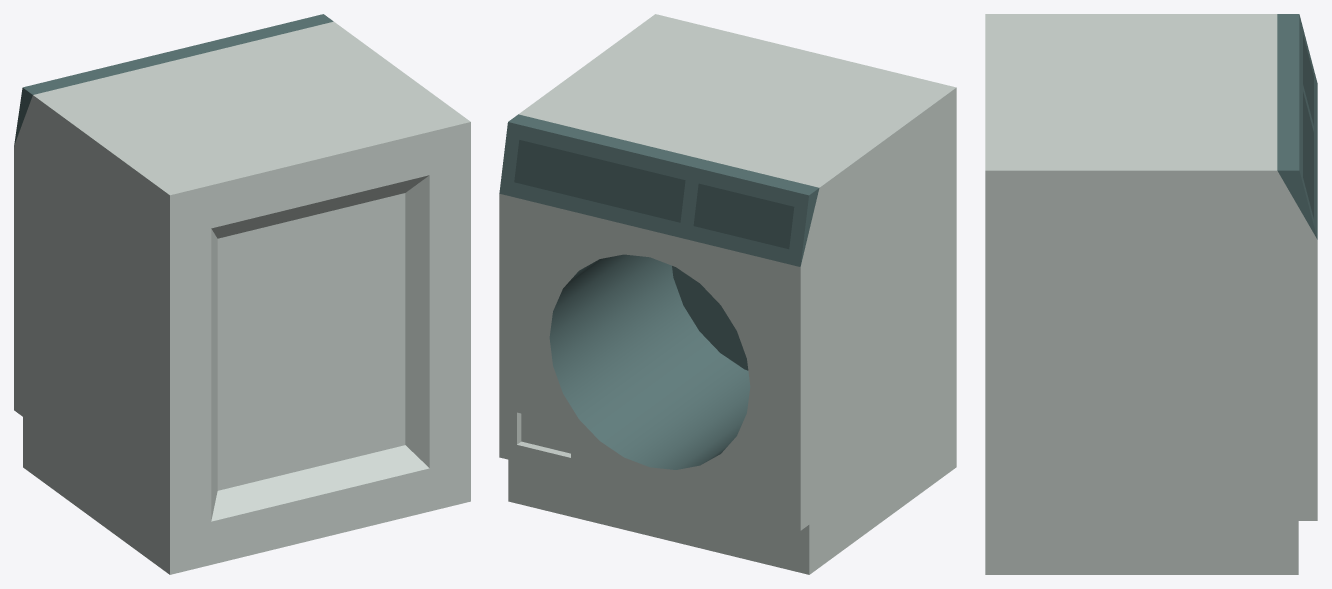
The model's file is Washer.glb.
3 views of the same model, side by side, from view 1: azimuth 30°, elevation 25°; view 2: azimuth 150°, elevation 25°; view 3: azimuth 270°, elevation 25° (orthographic). The views are drawn at different scales.
Visible parts, largest first — view 1: Washer; view 2: Washer; view 3: Washer.
Boxes of the visible parts, left/top/right/bottom form: Washer: left=14, top=14, right=470, bottom=574; Washer: left=499, top=14, right=956, bottom=574; Washer: left=985, top=14, right=1317, bottom=574.
Size of the model in its own units: 0.9848 by 1.19 by 0.8838.
